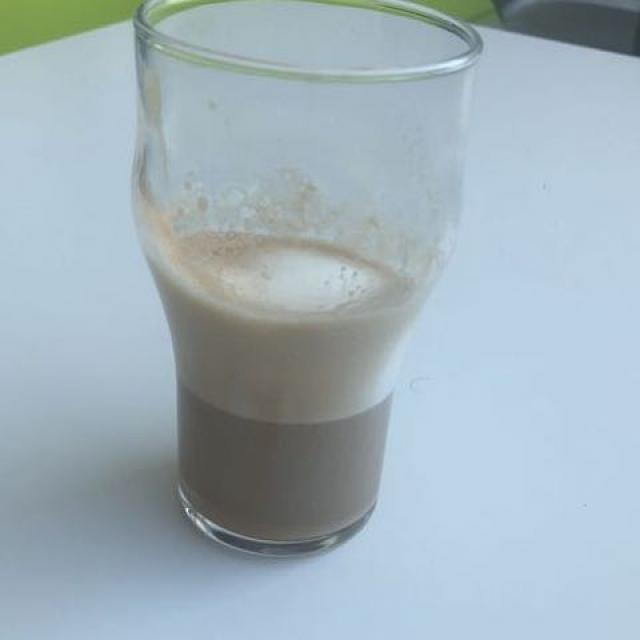cappuccino: (153, 198, 441, 526)
